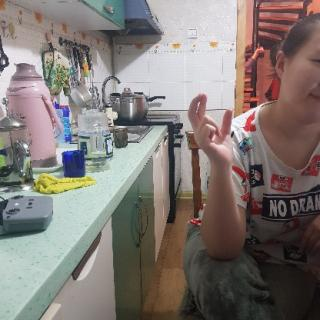DHELL: (186, 89, 241, 177)
